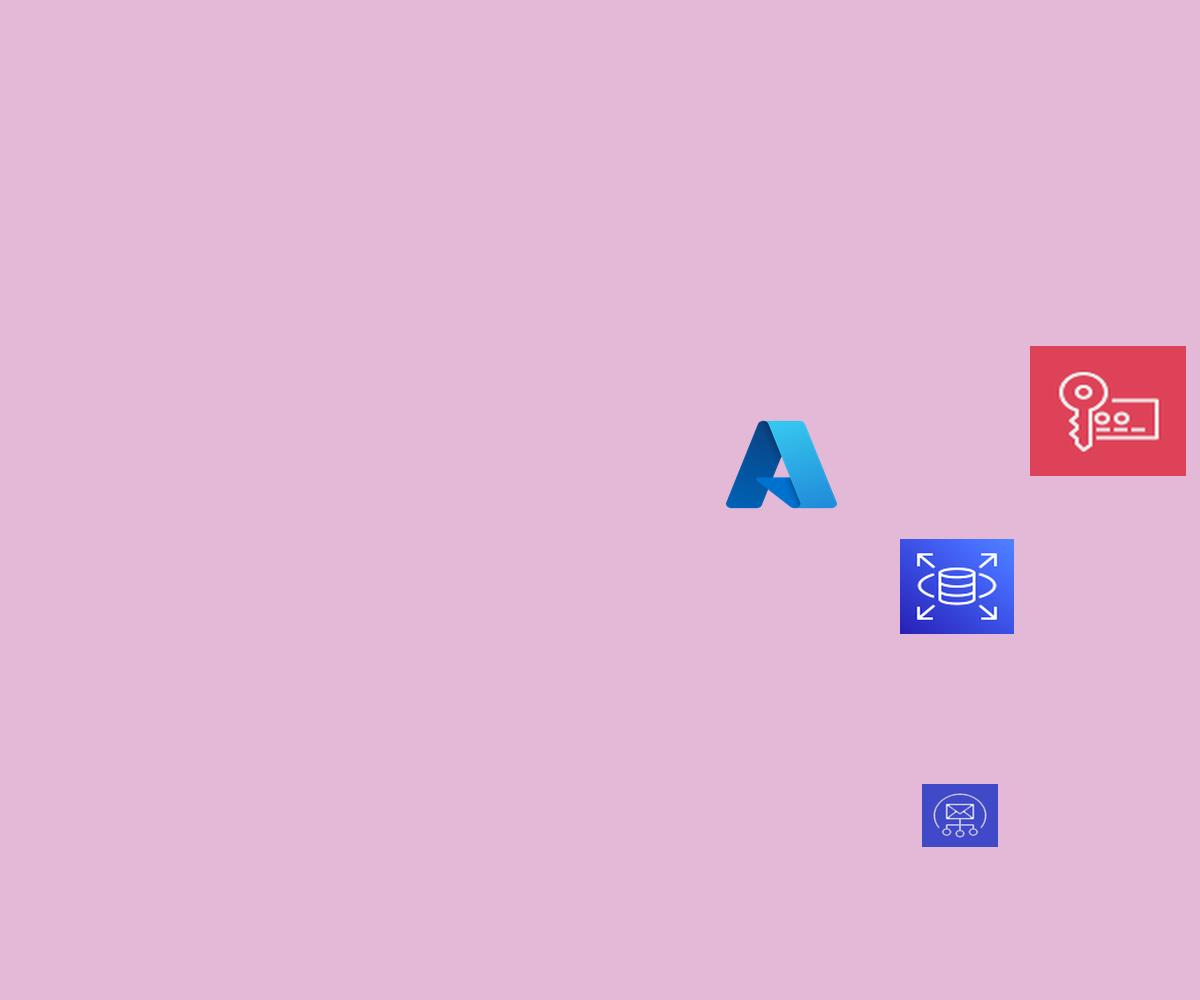AWS-Key-Management-Service: (1030, 346, 1186, 476)
AWS-RDS: (900, 539, 1014, 634)
AWS-Simple-Email-Service: (922, 784, 998, 847)
Azure_services: (721, 414, 842, 515)
